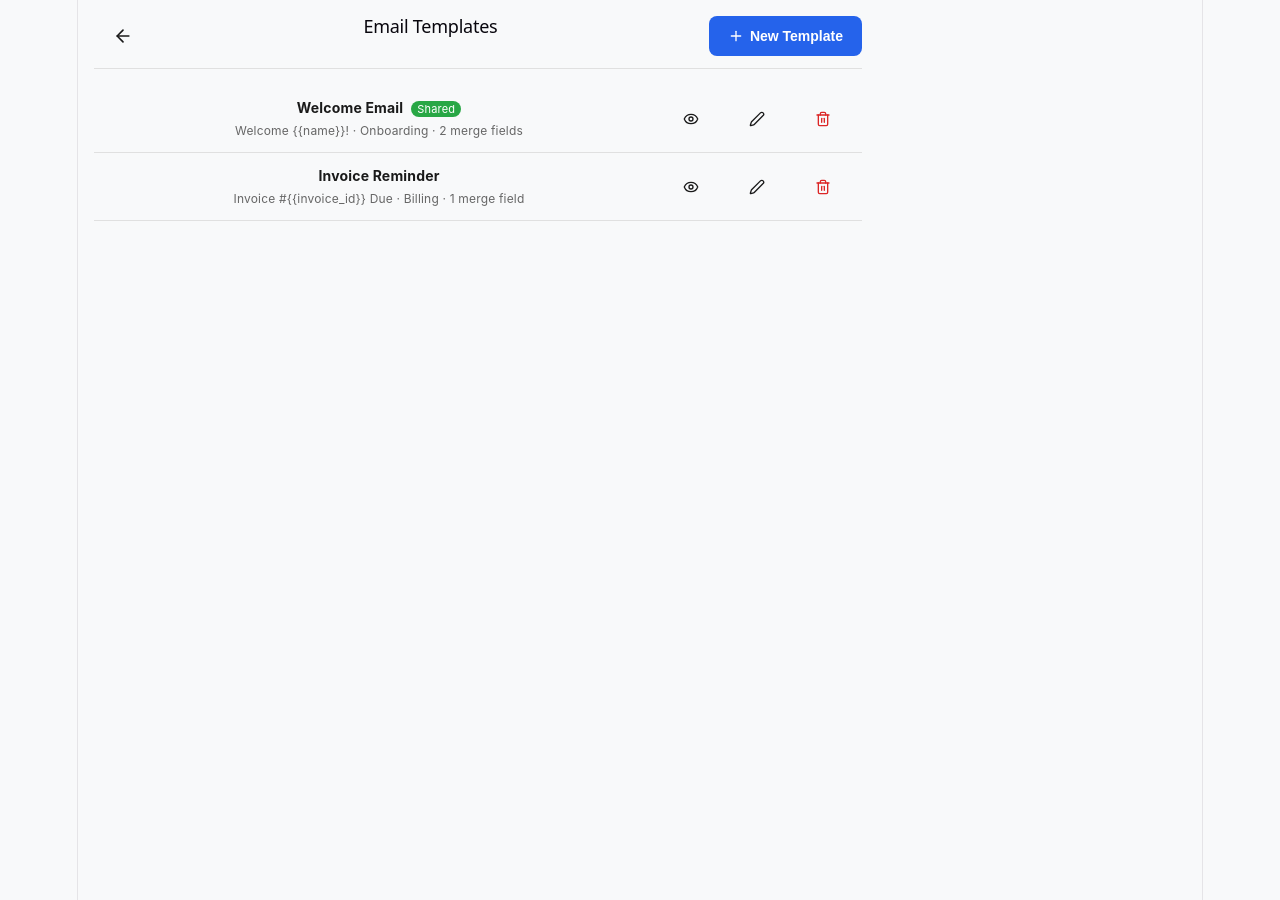
Test: TemplateManager › shows preview panel when preview button is clicked
The width and height of the screenshot is (1280, 900).
Click the button with test id "preview-tpl-1": {"x": 691, "y": 118} [664,100,718,136]
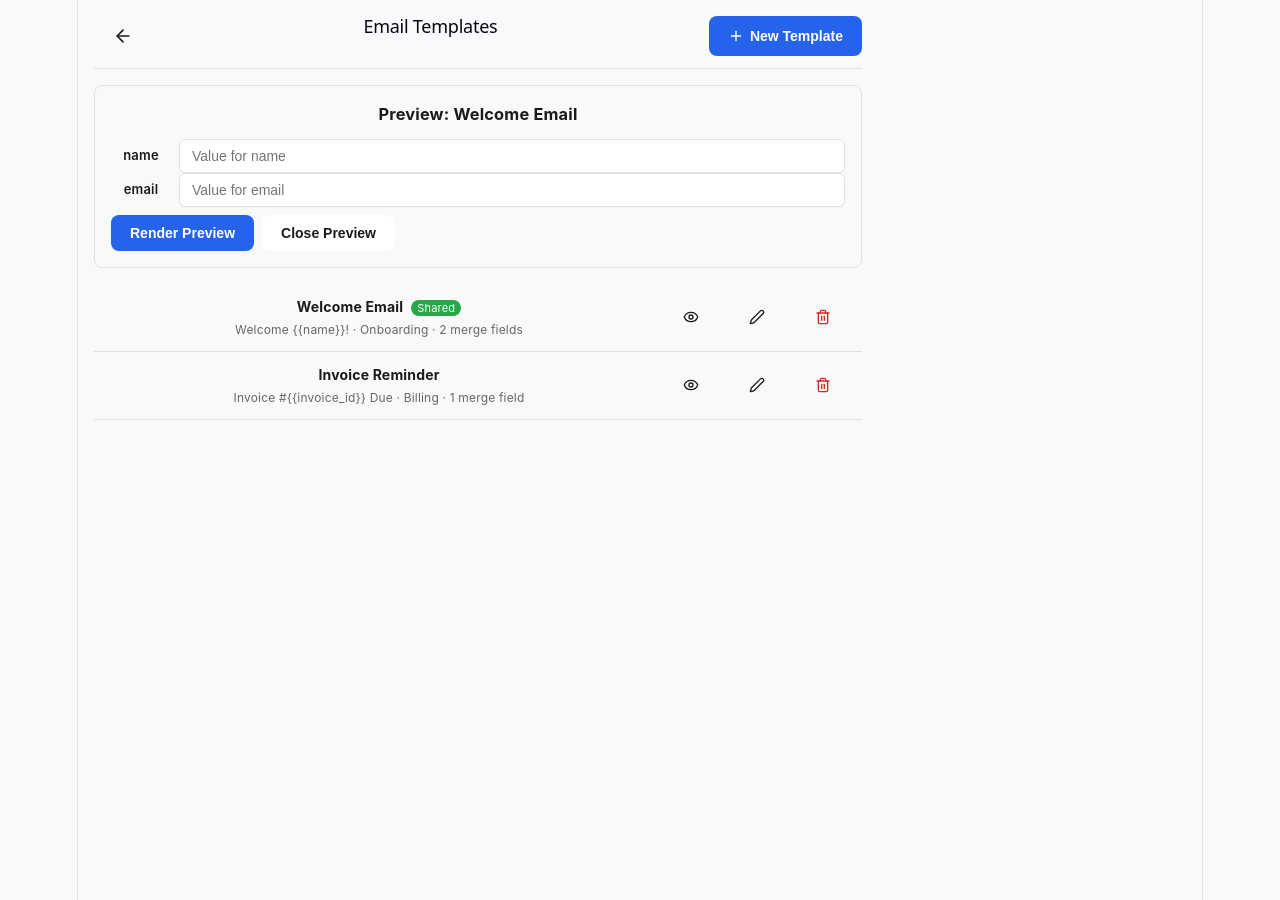
Check: the heading "Preview: Welcome Email" is shown, box [378,104,578,124]
Check: the field with test id "preview-field-name" is shown, box [179,139,845,173]
Check: the field with test id "preview-field-email" is shown, box [179,173,845,207]
